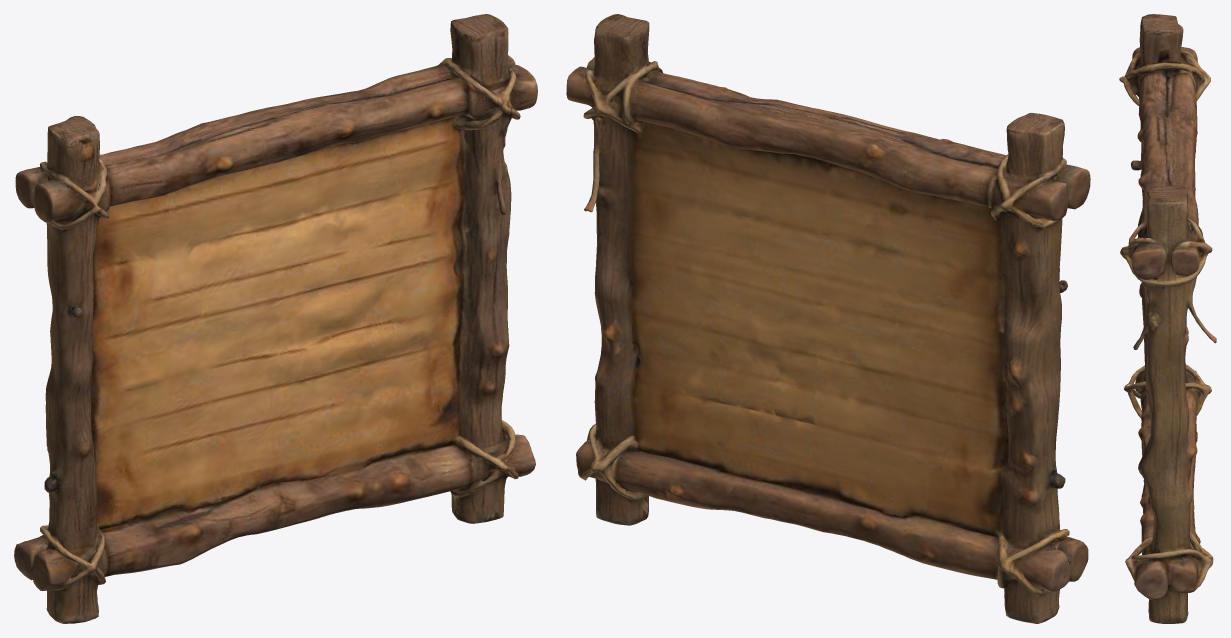
3 views of the same model, side by side, from view 1: azimuth 30°, elevation 25°; view 2: azimuth 150°, elevation 25°; view 3: azimuth 270°, elevation 25° (orthographic). The views are drawn at different scales.
Bounding box in the file's own units: 2 × 1.92 × 0.4029.
Materials: 1 (1 with a texture image).
